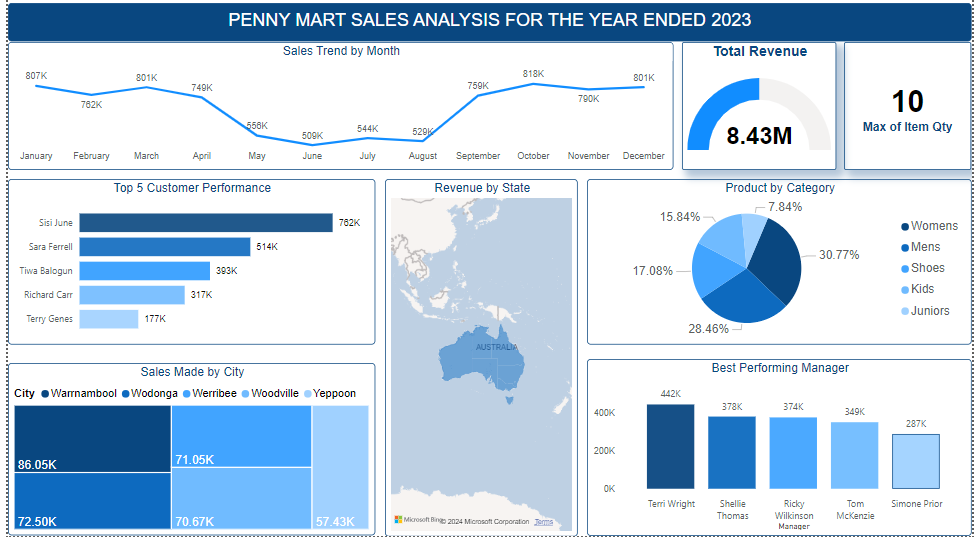

What the dashboard file says about the page in this screenshot:
{"tool":"powerbi","page":{"name":"Page 1","canvas":[1280,720],"ordinal":0},"visuals":[{"type":"textbox","box":[0,11.9,1280,50.8],"z":0},{"type":"treemap","title":"Sales Made by City","fields":{"Group":["Salesdata.City"],"Values":["Sum(Salesdata.Total Revenue)"]},"box":[0,490.4,487.6,228.6],"z":1000},{"type":"lineChart","title":"Sales Trend by Month","fields":{"Category":["Salesdata.Order Date.Variation.Date Hierarchy.Month"],"Y":["Sum(Salesdata.Total Revenue)"]},"box":[0,63.7,883.8,170.4],"z":2000},{"type":"filledMap","title":"Revenue by State","fields":{"Category":["Salesdata.State"]},"box":[501.5,245.2,256.3,475.2],"z":3000},{"type":"barChart","title":"Top 5 Customer Performance","fields":{"Y":["Sum(Salesdata.Total Revenue)"],"Category":["Salesdata.Buyer"]},"box":[0,245.2,487.6,220.3],"z":4000},{"type":"columnChart","title":"Best Performing Manager","fields":{"Category":["Salesdata.Manager"],"Y":["Sum(Salesdata.Total Revenue)"]},"box":[768.7,484.2,511.3,235.3],"z":5000},{"type":"pieChart","title":"Product by Category","fields":{"Category":["Salesdata.Item Category"],"Y":["Sum(Salesdata.Total Revenue)"]},"box":[768.8,245.2,511.2,220.3],"z":6000},{"type":"card","fields":{"Values":["Max(Salesdata.Item Qty)"]},"box":[1111,63.7,169,170.4],"z":7000},{"type":"gauge","title":"Total Revenue","fields":{"Y":["Sum(Salesdata.Total Revenue)"]},"box":[894.9,63.7,205,170.4],"z":8000}]}

Visuals, with their boxes in screenshot pixels (x1, y1, x2, y2), scaled from the page's 1280x720 canvas onto the 977x537 screenshot:
textbox: [0,9,976,47]
"Sales Made by City" treemap: [0,366,372,536]
"Sales Trend by Month" lineChart: [0,48,675,175]
"Revenue by State" filledMap: [383,183,578,536]
"Top 5 Customer Performance" barChart: [0,183,372,347]
"Best Performing Manager" columnChart: [587,361,976,536]
"Product by Category" pieChart: [587,183,976,347]
card - Max(Salesdata.Item Qty): [848,48,976,175]
"Total Revenue" gauge: [683,48,840,175]
